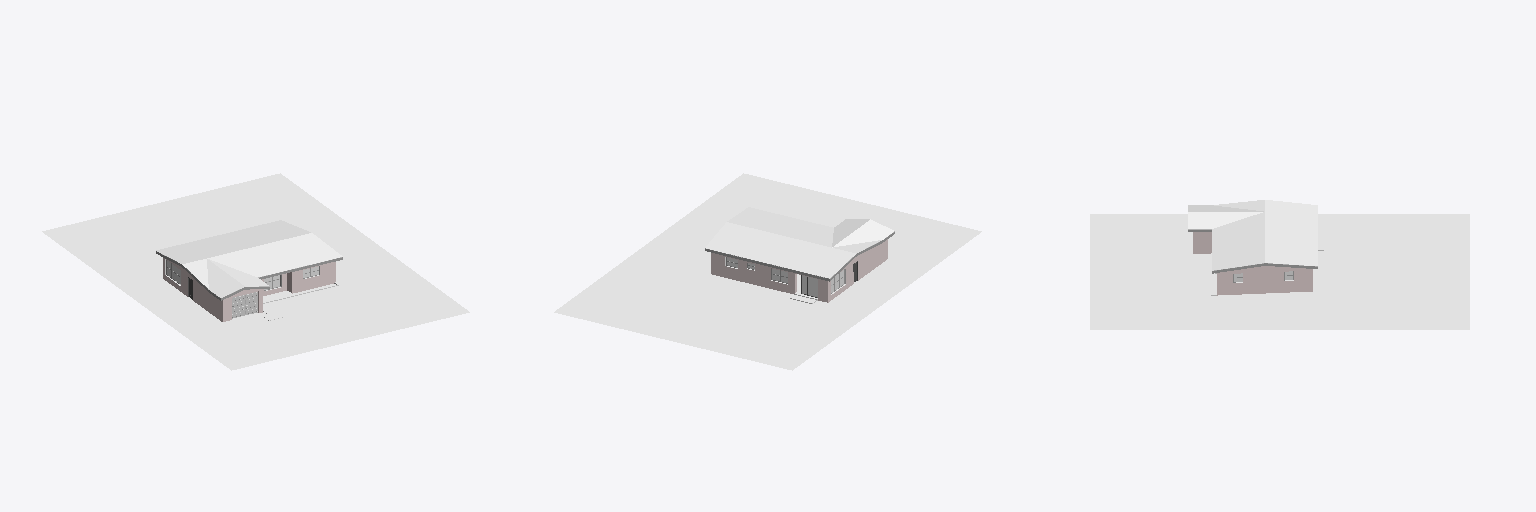
File: pkobj.obj
3 views of the same model, side by side, from view 1: azimuth 30°, elevation 25°; view 2: azimuth 150°, elevation 25°; view 3: azimuth 270°, elevation 25° (orthographic).
Parts seen in each view (by area): view 1: object_5, object_40, object_26, object_6; view 2: object_5, object_40, object_26, object_6; view 3: object_5, object_40, object_26, object_6.
Boxes of the visible parts, x1=… form: object_5: x1=42, y1=173, x2=469, y2=370; object_40: x1=156, y1=220, x2=342, y2=297; object_26: x1=163, y1=258, x2=335, y2=321; object_6: x1=233, y1=314, x2=309, y2=357; object_5: x1=554, y1=173, x2=981, y2=370; object_40: x1=705, y1=207, x2=894, y2=278; object_26: x1=711, y1=239, x2=887, y2=302; object_6: x1=885, y1=212, x2=928, y2=248; object_5: x1=1090, y1=214, x2=1469, y2=329; object_40: x1=1188, y1=200, x2=1317, y2=270; object_26: x1=1193, y1=232, x2=1312, y2=295; object_6: x1=1090, y1=239, x2=1192, y2=251.
Size of the model in its own units: 987 by 132 by 1360.